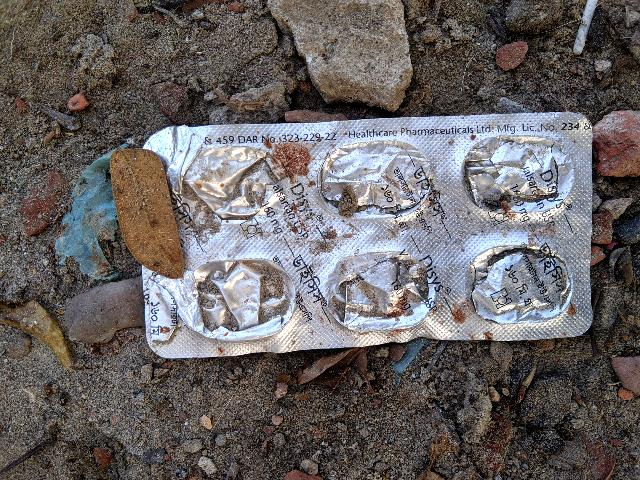medicine: (134, 101, 593, 371)
